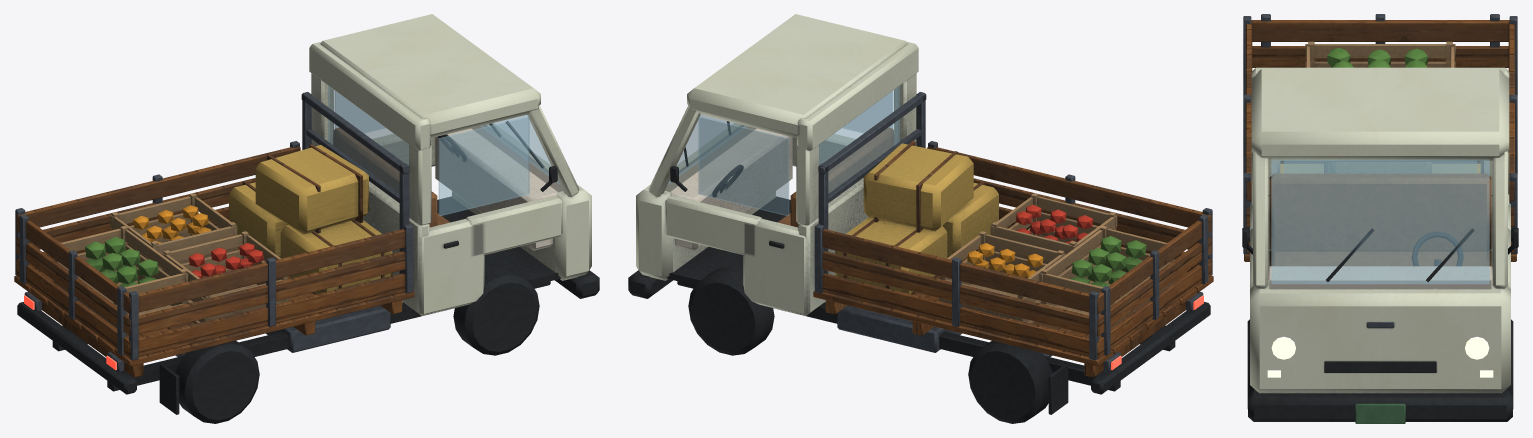
The model's file is vehicle_farm_truck.glb.
3 views of the same model, side by side, from view 1: azimuth 30°, elevation 25°; view 2: azimuth 150°, elevation 25°; view 3: azimuth 270°, elevation 25° (orthographic). The views are drawn at different scales.
Parts seen in each view (by area): view 1: FarmTruckBody, FarmTruckGlass; view 2: FarmTruckBody, FarmTruckGlass; view 3: FarmTruckBody, FarmTruckGlass, FarmTruckHeadlights.
Boxes of the visible parts, x1=… form: FarmTruckBody: x1=14, y1=14, x2=599, y2=423; FarmTruckGlass: x1=328, y1=86, x2=560, y2=215; FarmTruckBody: x1=628, y1=14, x2=1213, y2=423; FarmTruckGlass: x1=667, y1=86, x2=899, y2=215; FarmTruckBody: x1=1242, y1=14, x2=1518, y2=423; FarmTruckGlass: x1=1271, y1=159, x2=1489, y2=284; FarmTruckHeadlights: x1=1267, y1=336, x2=1493, y2=377.
Size of the model in its own units: 3.61 by 1.85 by 1.54.
6 materials, 3 textured.
